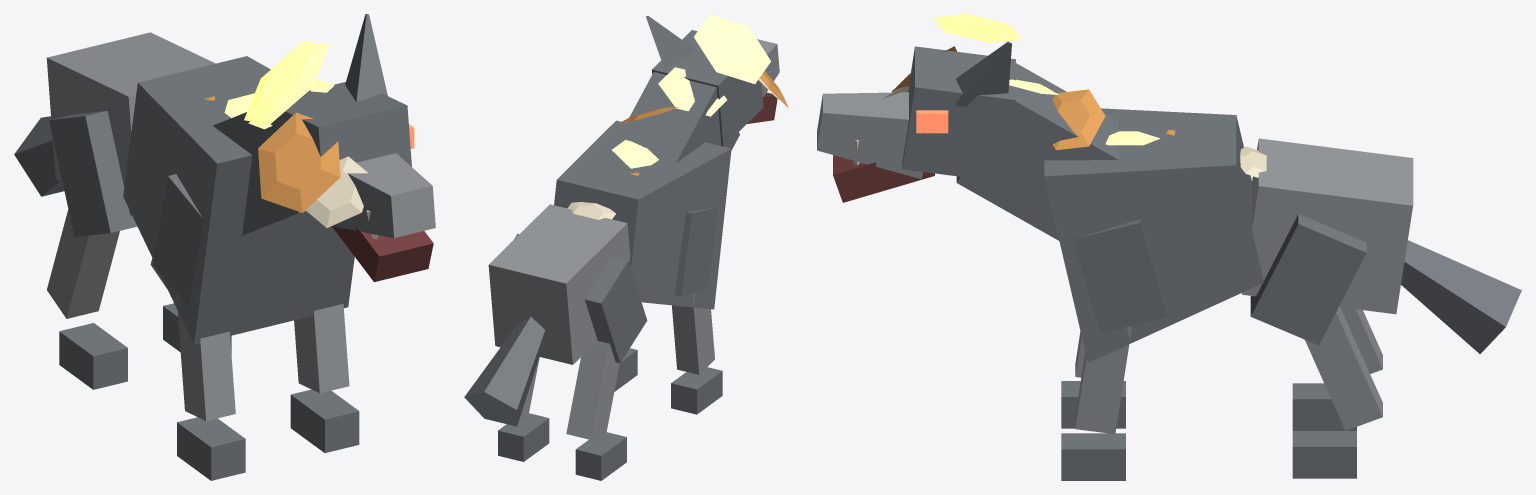
Rendered from spore_wolf.glb.
The picture shows the model from 3 angles, left to right: view 1: azimuth 30°, elevation 25°; view 2: azimuth 150°, elevation 25°; view 3: azimuth 270°, elevation 25°; orthographic projection. The views are drawn at different scales.
Visible parts, largest first — view 1: Wolf_Chest, Wolf_Hips, Wolf_BackThigh_L, Wolf_Head, Wolf_Snout, Wolf_Fungus_1, Wolf_BackShin_L, Wolf_FrontArm_L, Wolf_FrontShoulder_L, Wolf_FrontArm_R, Wolf_Fungus_0, Wolf_BackPaw_L (+9 smaller); view 2: Wolf_Chest, Wolf_Hips, Wolf_Neck, Wolf_Tail, Wolf_BackThigh_L, Wolf_BackShin_L, Wolf_Head, Wolf_Fungus_0, Wolf_FrontShoulder_L, Wolf_FrontArm_L, Wolf_BackPaw_L, Wolf_FrontPaw_L (+8 smaller); view 3: Wolf_Chest, Wolf_Hips, Wolf_Head, Wolf_BackThigh_R, Wolf_Neck, Wolf_FrontShoulder_R, Wolf_Tail, Wolf_Snout, Wolf_BackShin_R, Wolf_FrontArm_R, Wolf_BackPaw_R, Wolf_FrontPaw_R (+8 smaller).
Boxes of the visible parts, box(x1,y1,x2,y2) form: Wolf_Chest: box(123, 56, 354, 344); Wolf_Hips: box(46, 32, 215, 215); Wolf_BackThigh_L: box(49, 110, 137, 237); Wolf_Head: box(267, 82, 411, 166); Wolf_Snout: box(331, 153, 435, 237); Wolf_Fungus_1: box(258, 112, 340, 212); Wolf_BackShin_L: box(47, 209, 119, 318); Wolf_FrontArm_L: box(176, 293, 235, 420); Wolf_FrontShoulder_L: box(153, 174, 203, 308); Wolf_FrontArm_R: box(294, 304, 349, 393); Wolf_Fungus_0: box(244, 41, 329, 124); Wolf_BackPaw_L: box(59, 323, 127, 389); Wolf_Chest: box(554, 120, 731, 309); Wolf_Hips: box(488, 204, 630, 364); Wolf_Neck: box(613, 72, 739, 163); Wolf_Tail: box(464, 316, 545, 426); Wolf_BackThigh_L: box(584, 257, 647, 362); Wolf_BackShin_L: box(566, 341, 619, 439); Wolf_Head: box(651, 30, 763, 146); Wolf_Fungus_0: box(694, 14, 770, 83); Wolf_FrontShoulder_L: box(674, 207, 718, 296); Wolf_FrontArm_L: box(672, 293, 714, 374); Wolf_BackPaw_L: box(575, 432, 626, 480); Wolf_FrontPaw_L: box(671, 367, 722, 414); Wolf_Chest: box(1044, 108, 1263, 362); Wolf_Hips: box(1242, 138, 1413, 314); Wolf_Head: box(902, 46, 1015, 181); Wolf_BackThigh_R: box(1250, 214, 1366, 345); Wolf_Neck: box(956, 63, 1118, 240); Wolf_FrontShoulder_R: box(1074, 219, 1168, 333); Wolf_Tail: box(1401, 240, 1521, 353); Wolf_Snout: box(817, 92, 922, 179); Wolf_BackShin_R: box(1305, 307, 1382, 430); Wolf_FrontArm_R: box(1075, 326, 1131, 434); Wolf_BackPaw_R: box(1292, 431, 1356, 478); Wolf_FrontPaw_R: box(1061, 433, 1125, 480).
Bounding box in the file's own units: 0.6895 × 1.77 × 2.62.
